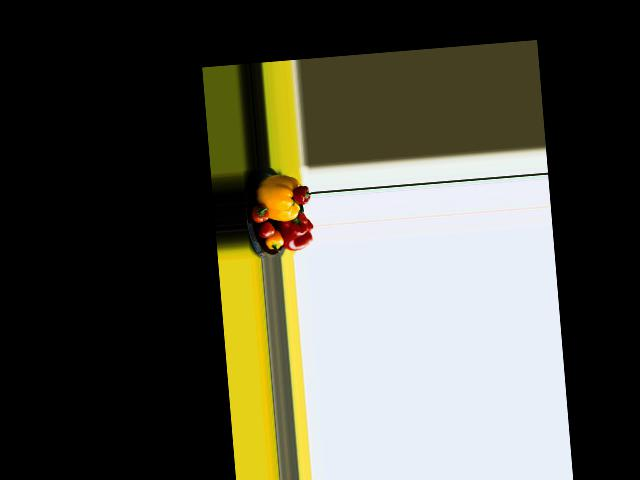bell_pepper: (265, 231, 285, 252)
